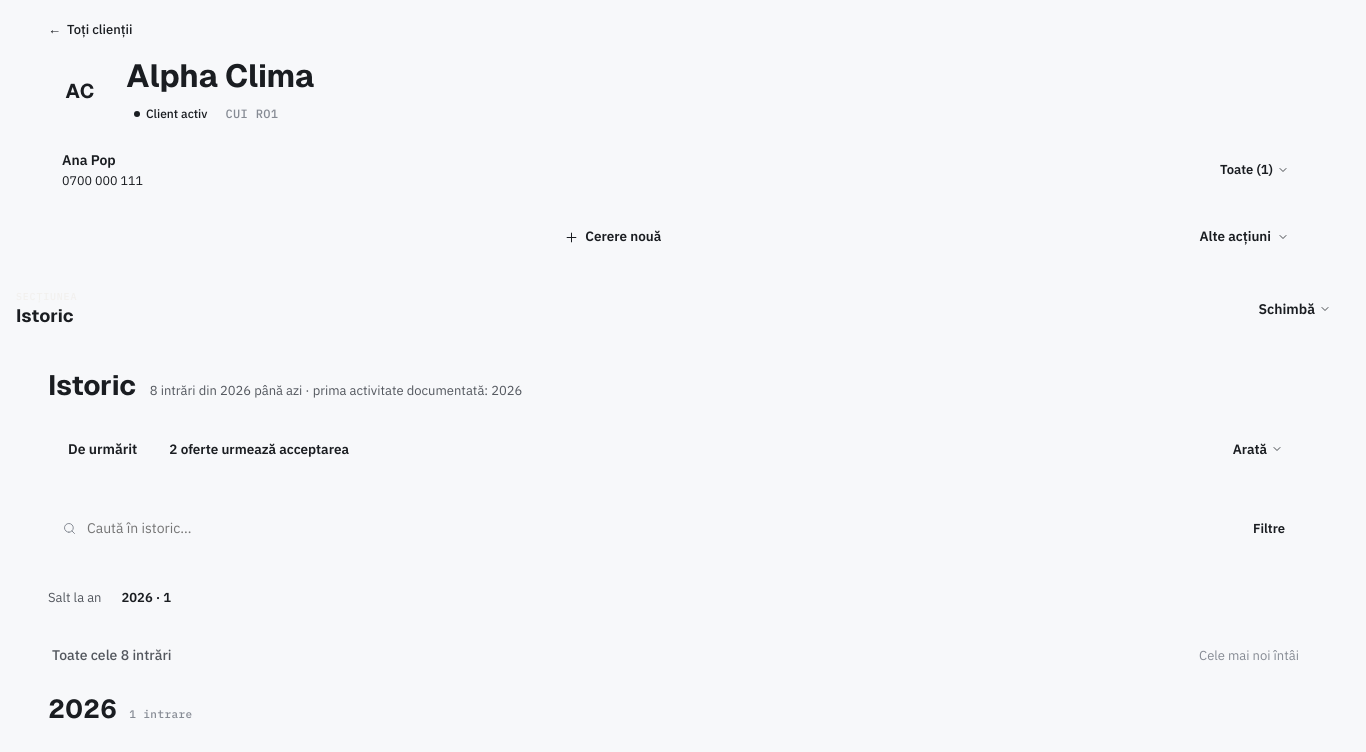
Test case: client header on tablet and phone (N-020 design final) › phone: without the permission to record, Alte acțiuni does not offer it
Expected: the heading "Alpha Clima" is shown, [126, 58, 314, 94]
Click the button "Alte acțiuni": [1244, 237] box [1186, 215, 1303, 259]
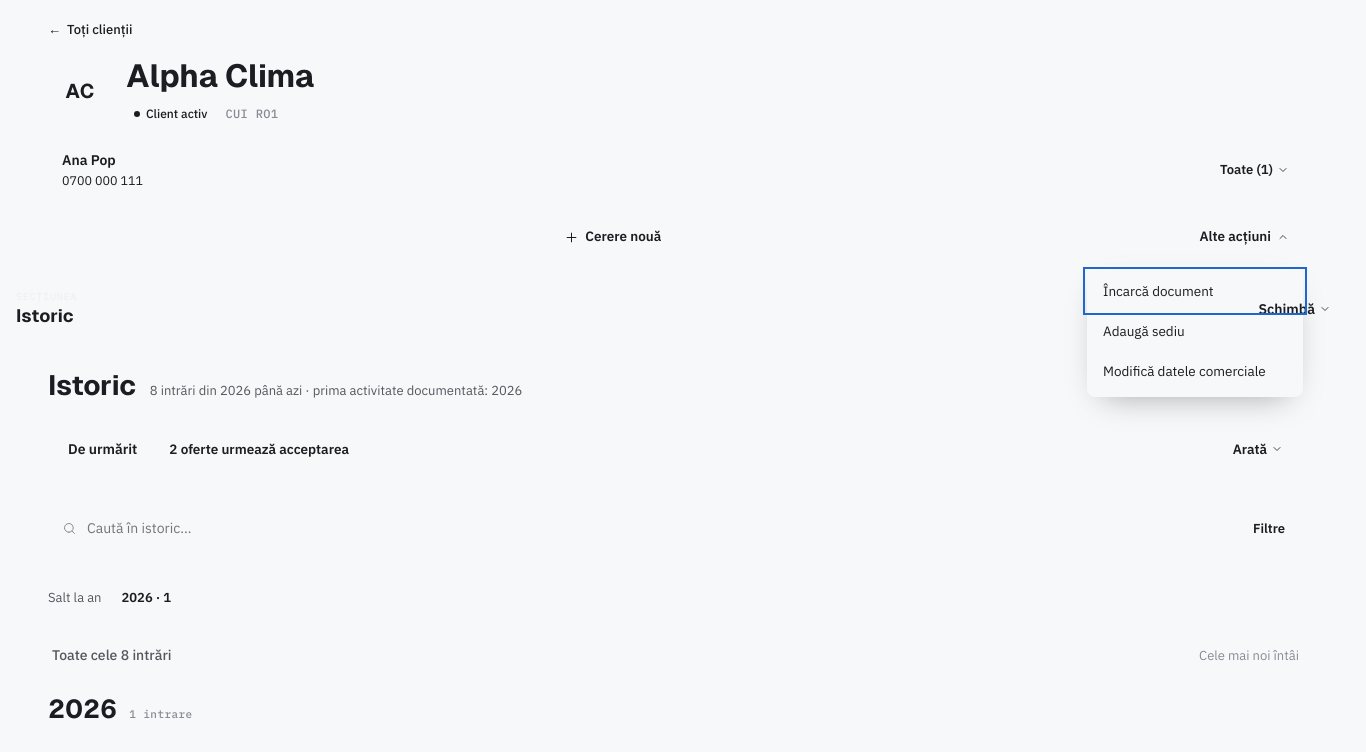
Expected: the button "Încarcă document" is shown, [1087, 271, 1303, 311]
